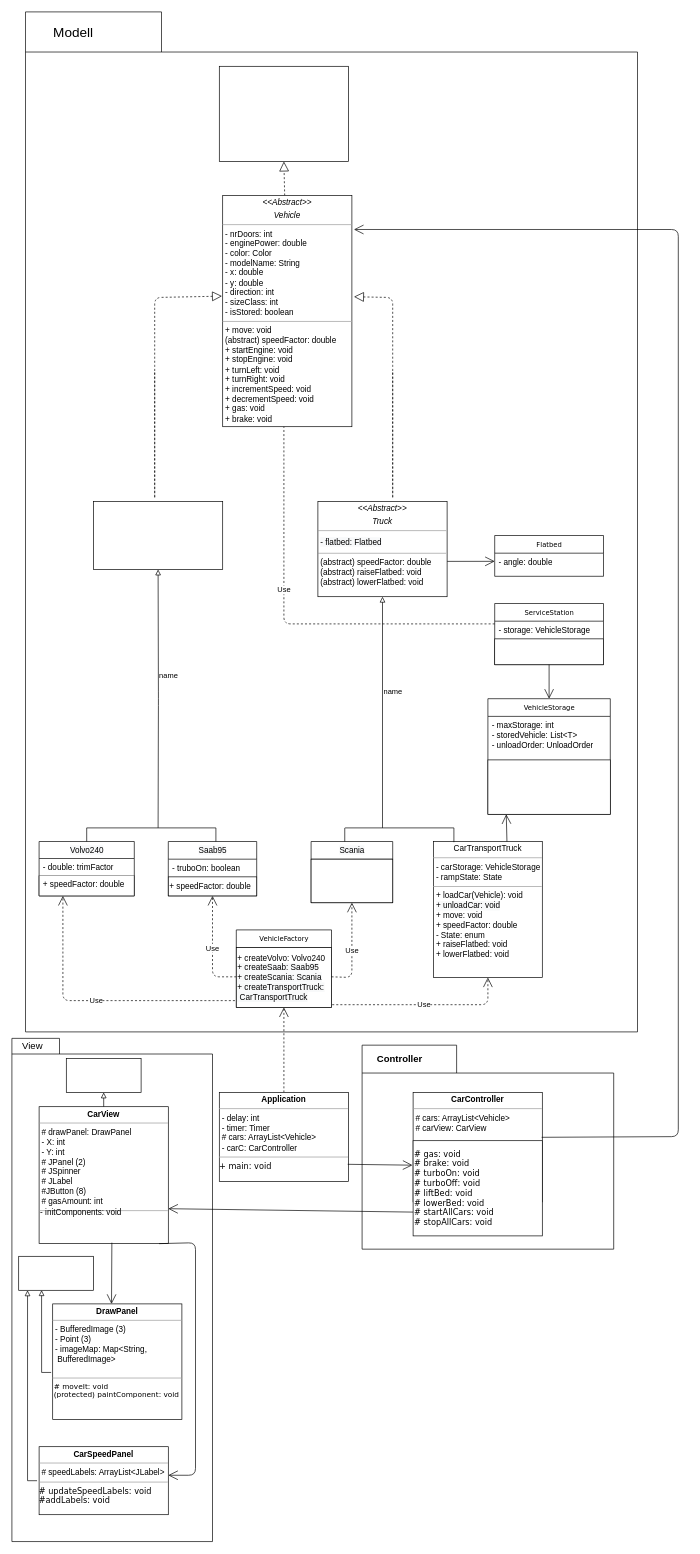
The diagram is 700 pixels wide and 1554 high, and some of its shapes have lost their labels. Each missing label, with the centre of its shape:
"+ loadCar: void + unloadCar: void" goes at (x=549, y=651).
"+speedFactor: double + raiseFlatbed: void +lowerFlatbed:void" goes at (x=351, y=881).
"+updatePositions:void # UnloadOrder: enum + load: void + unload: T" goes at (x=548, y=786).
"<<Abstract>> Car (abstract) speedFactor: double" goes at (x=158, y=535).
"<<Interface>> IMovable + move: void + turnLeft: void + turnRight: void" goes at (x=283, y=114).
"JFrame" goes at (x=103, y=1075).
"JPanel" goes at (x=56, y=1273).
